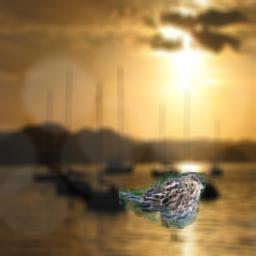Sparrow: (119, 172, 206, 229)
